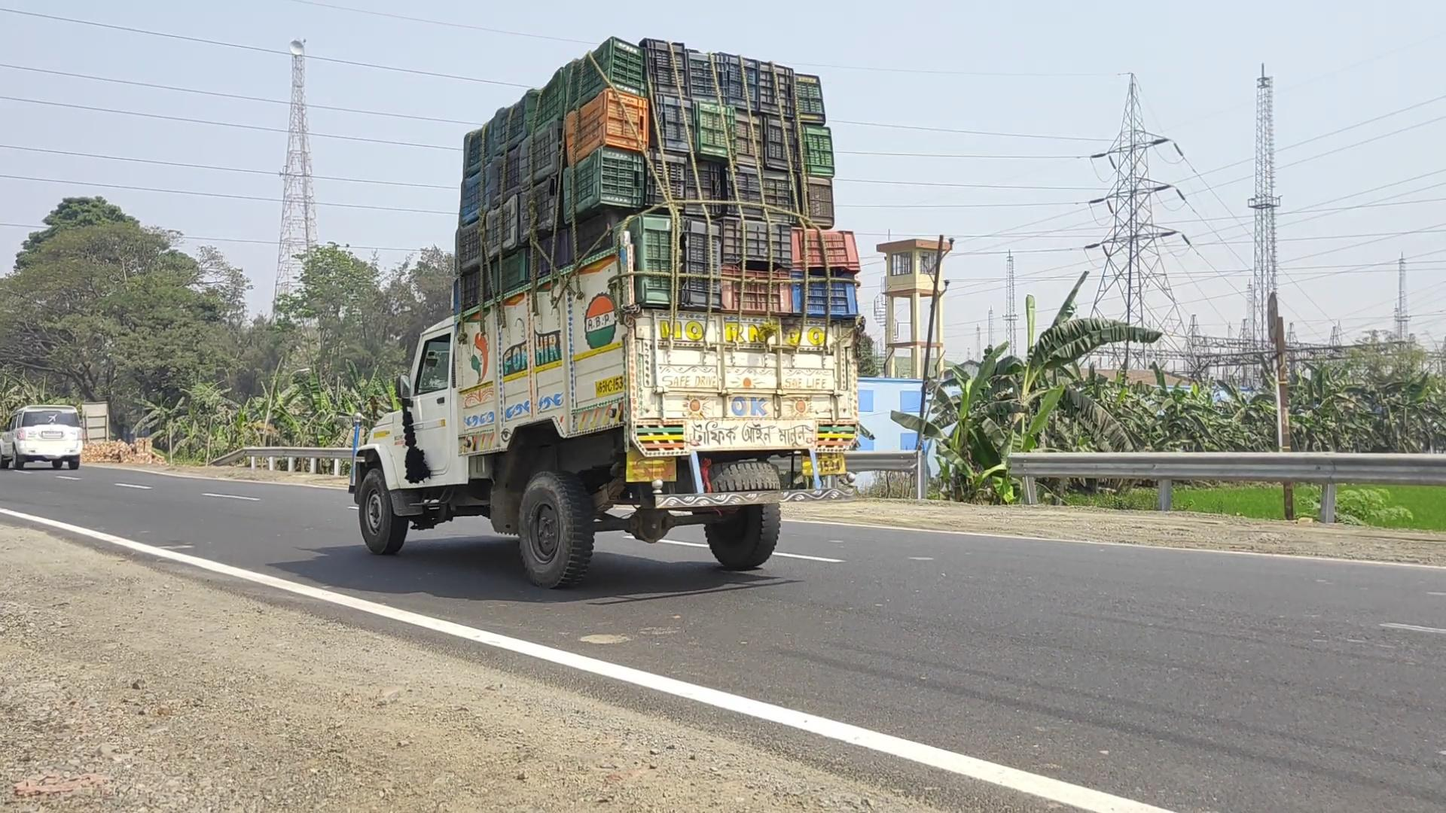car: (1, 404, 83, 470)
van: (349, 36, 860, 590)
